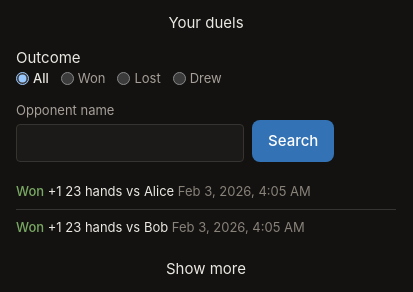
Test: the history screen › does not keep rows from the old filter when changing outcome, even with a cursor
This screenshot has width=413, height=292.
Expected: the number of list items is 2, [16,182,311,198]; [16,209,396,246]
Expected: the list item "Won +1 23 hands vs Alice Feb 3, 2026, 4:05 AM" is shown, [16,182,311,198]
# Click to filter by LOST
Click the radio button labelled "Lost" at (124, 79), box [117,72,130,85]
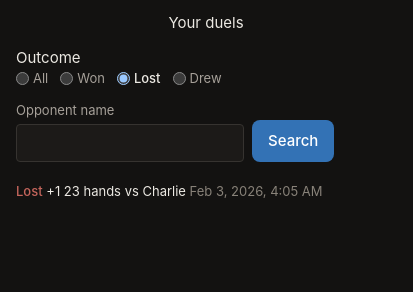
Result: the number of list items is 1 at [16,182,323,198]
Result: the list item shows "Lost" at [16,182,43,198]
Result: the list item shows "Charlie" at [142,182,186,198]
